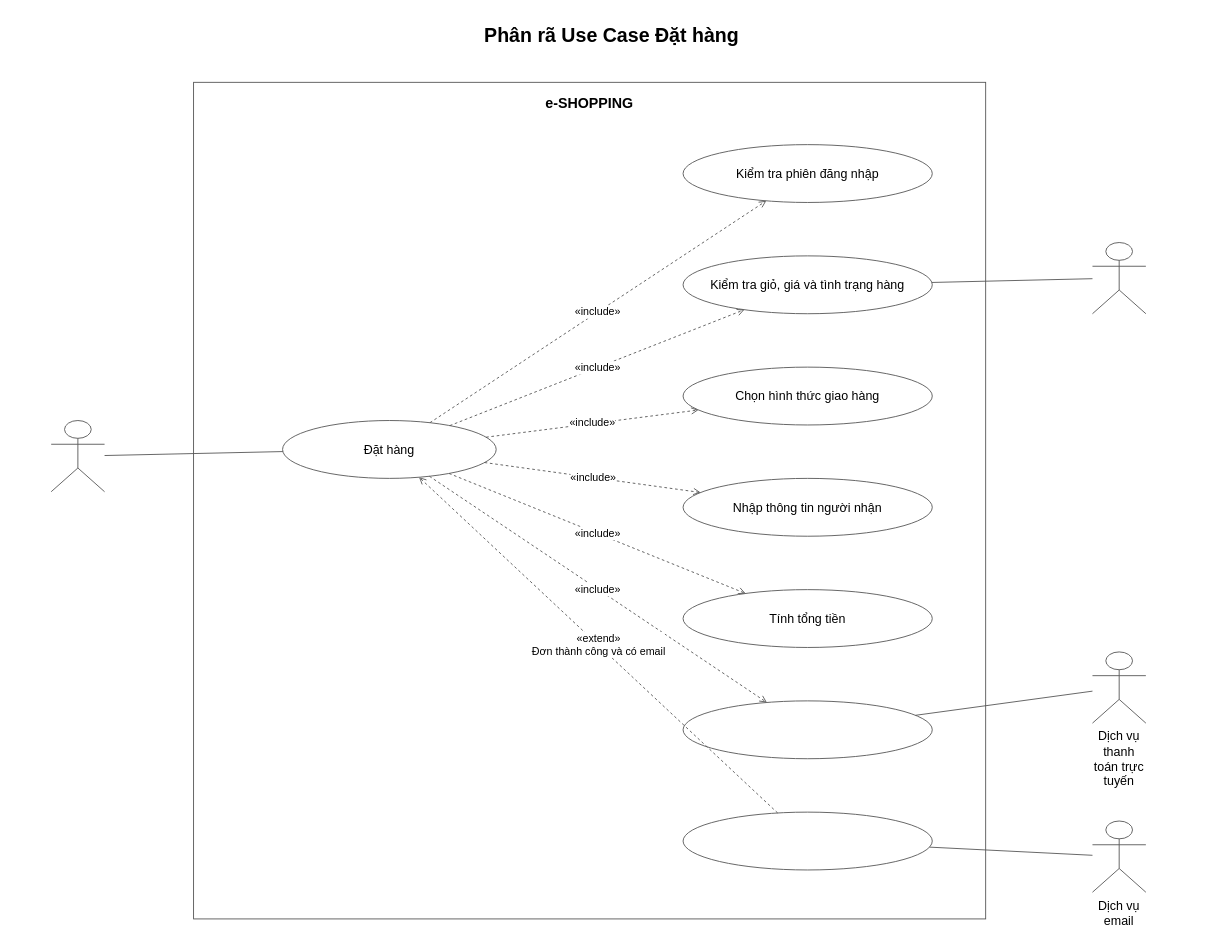
The diagram is 1223 pixels wide and 943 high, and some of its shapes have lost their labels. Here are the shapes that lost their labels. From the top down, the centre of each, then its label:
At point 1119,278: "Hệ thống quản lý sản phẩm".
At point 77,456: "Khách hàng".
At point 807,729: "Thanh toán thẻ".
At point 807,840: "Gửi email xác nhận".
